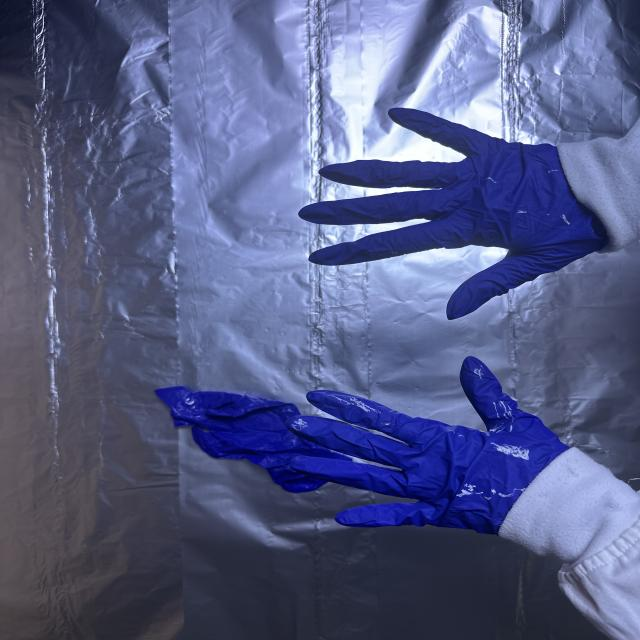gloves_contaminated: (299, 108, 608, 320), (288, 357, 568, 534)
